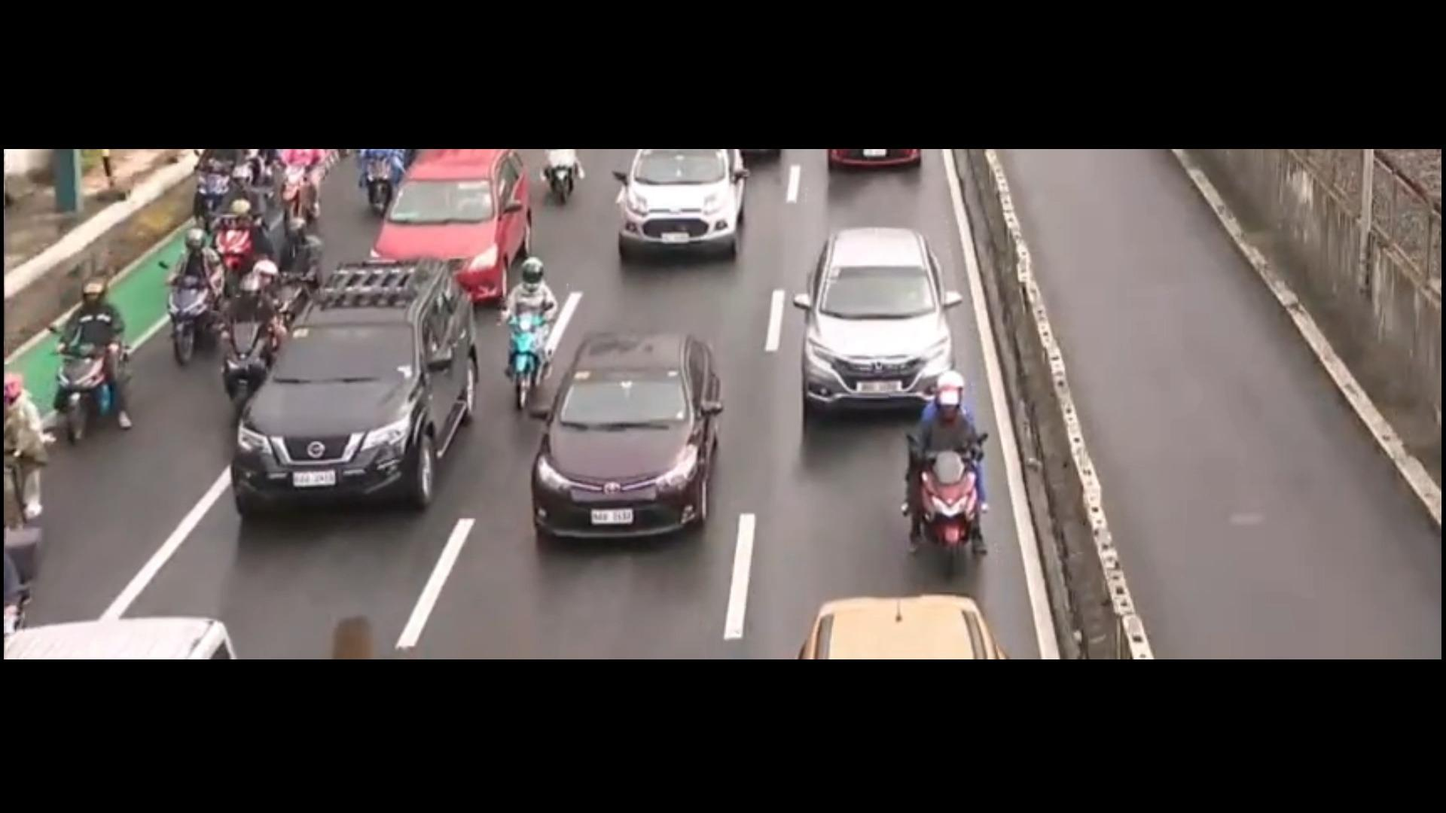Motorcycle: (904, 373, 988, 576), (47, 271, 130, 440), (491, 260, 565, 414), (211, 260, 284, 414), (0, 363, 49, 557), (145, 233, 218, 361), (260, 166, 331, 297), (203, 190, 258, 305), (194, 128, 235, 216), (548, 136, 593, 211), (279, 130, 316, 216), (362, 137, 401, 209)
SUV: (222, 254, 467, 508), (804, 226, 955, 410), (606, 152, 746, 254)
Sedan: (514, 314, 753, 538), (361, 149, 535, 299)
